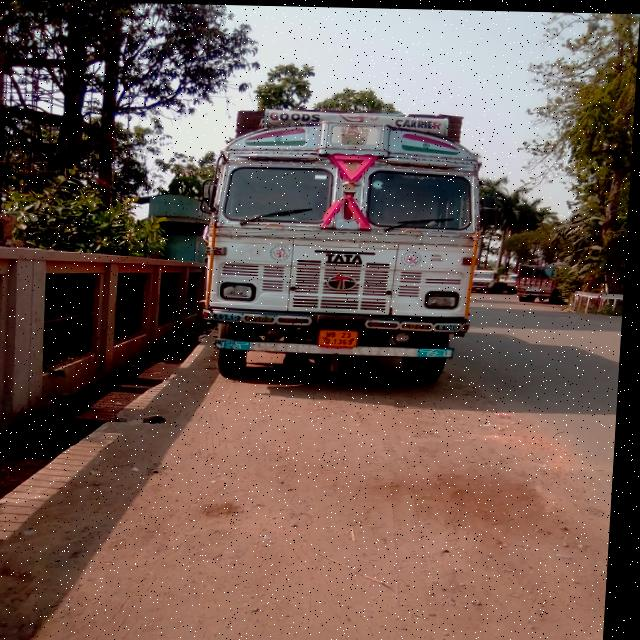plate: (322, 328, 362, 346), (479, 285, 484, 287)
